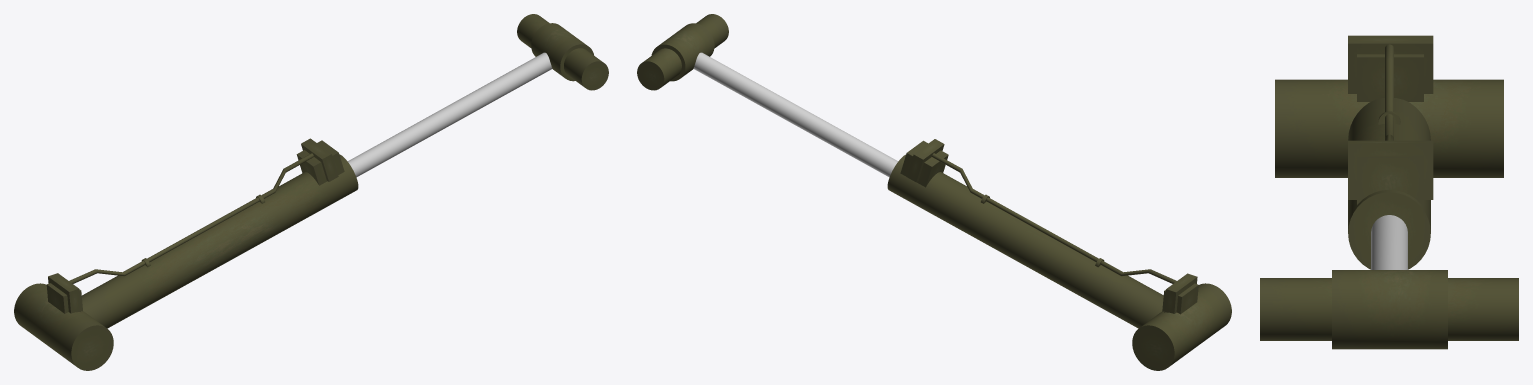
File: Tpk_domkrat.gltf
3 renders of one model, left to right at view 1: azimuth 30°, elevation 25°; view 2: azimuth 150°, elevation 25°; view 3: azimuth 270°, elevation 25°, orthographic. The views are drawn at different scales.
Visible parts, largest first — view 1: Tpk_domkrat; view 2: Tpk_domkrat; view 3: Tpk_domkrat.
Part boxes in pixels (x1,y1,x2,y2): Tpk_domkrat: [14, 14, 608, 370]; Tpk_domkrat: [637, 14, 1231, 370]; Tpk_domkrat: [1260, 35, 1518, 349].
Size of the model in its own units: 1.62 by 0.5584 by 0.3388.
2 materials, 1 textured.
